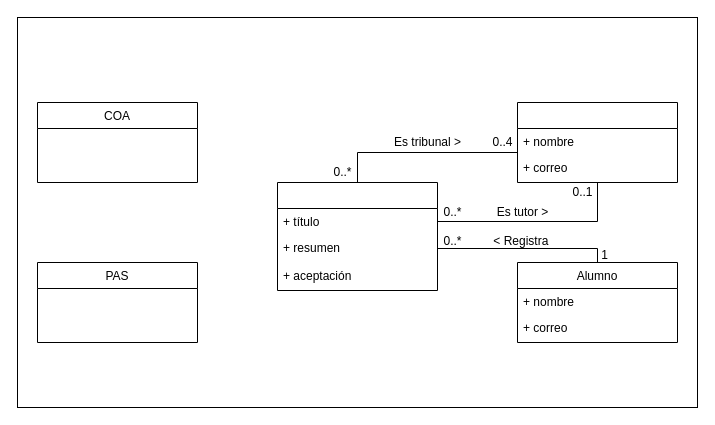
Image size: 715x425. Some labels were removed from this diagram. The box of each missing label's shape, as (x1, y1, x2, y2) in pixels:
Profesor: (516, 102, 678, 182)
Solicitud: (276, 182, 438, 290)
